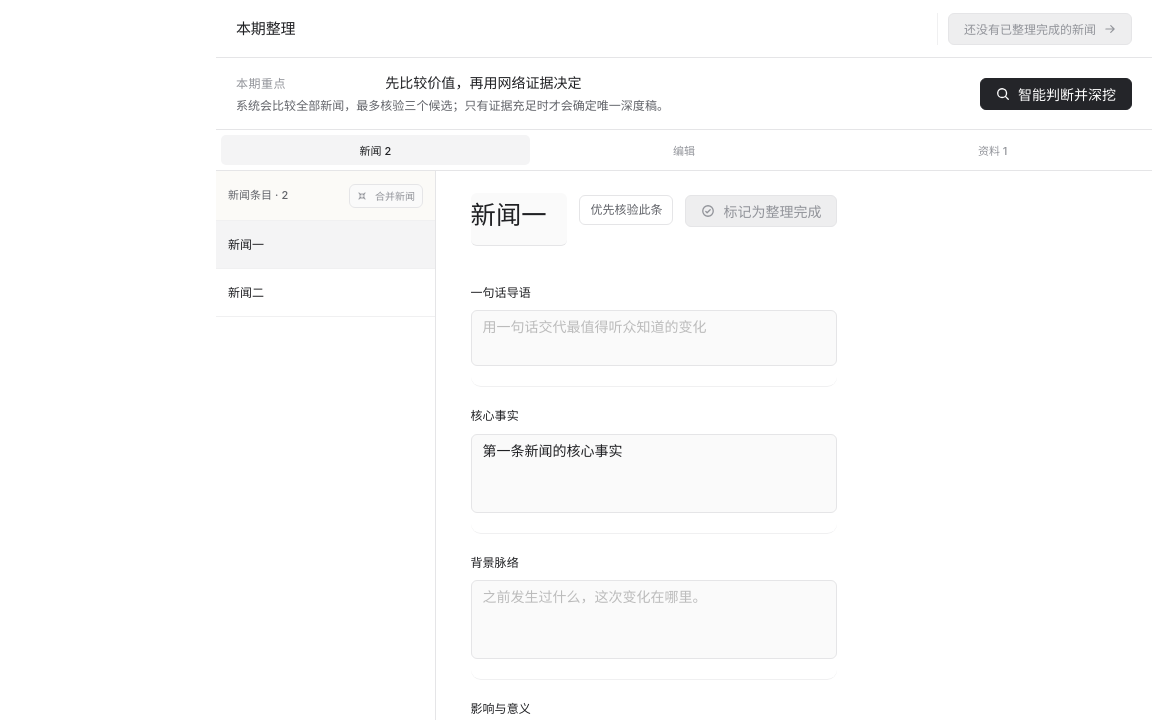
Test: OrganizePanel news unit editor › merges another news unit into the active unit as a reference source
Click the button "合并新闻".
click(386, 196)  # box [349,184,423,208]
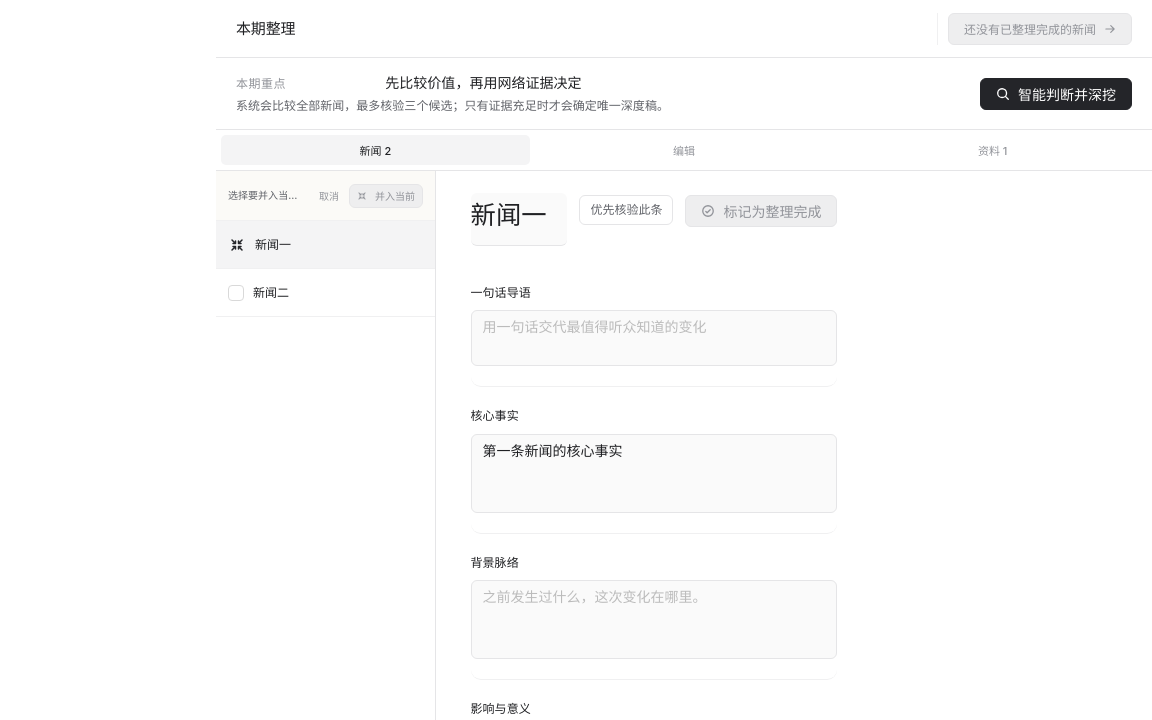
Now the element named "当前合并目标" is shown, box [228,236,246,254]
Click the checkbox named "选择合并 新闻二".
click(236, 292)  # box [228,282,244,304]
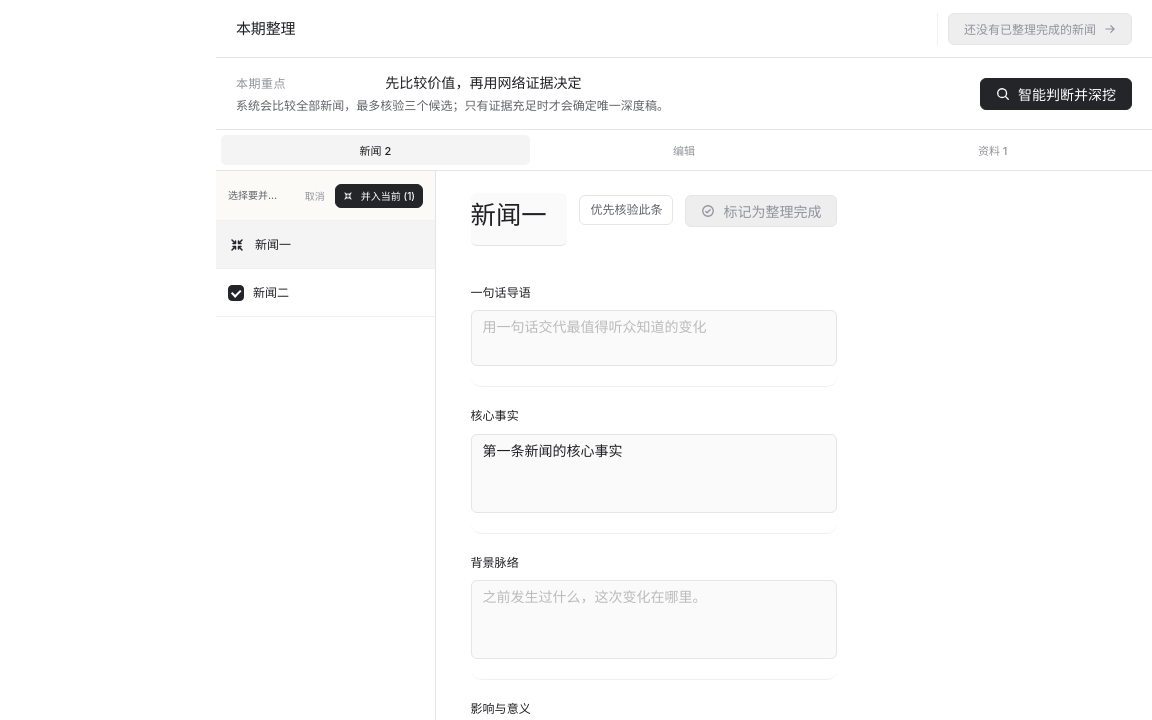
Click the button "并入当前 (1)".
click(379, 196)  # box [335,184,423,208]
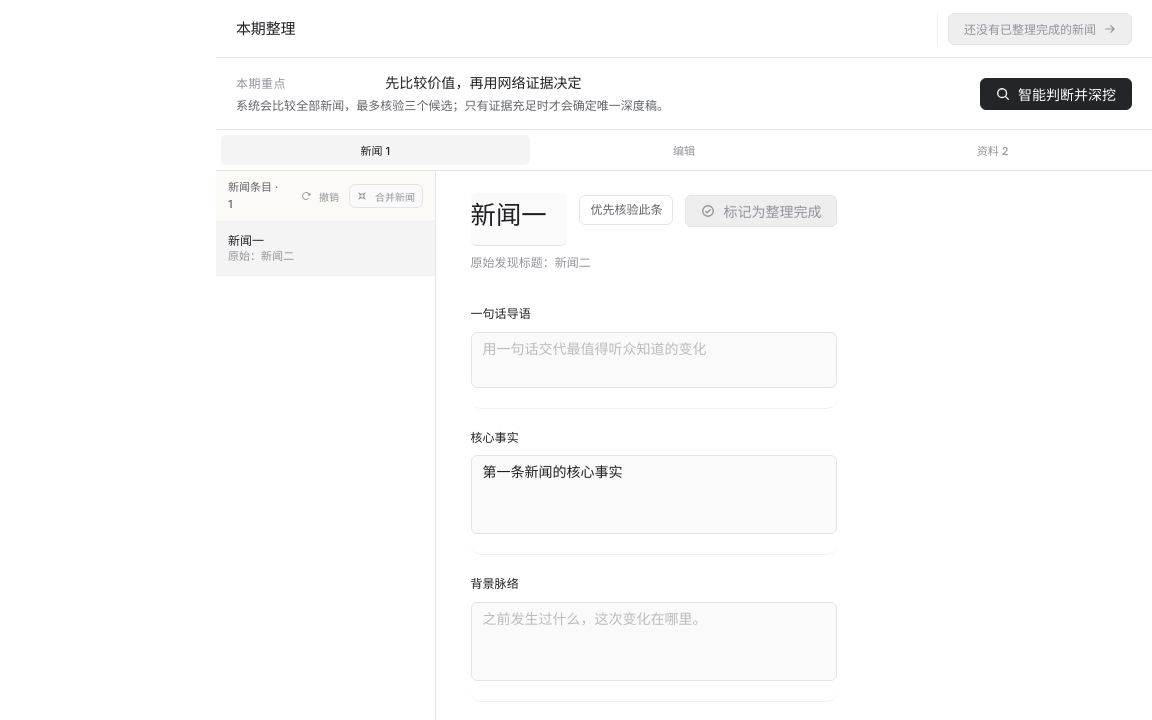
Now the button "撤销" is shown, box [293,184,347,208]
